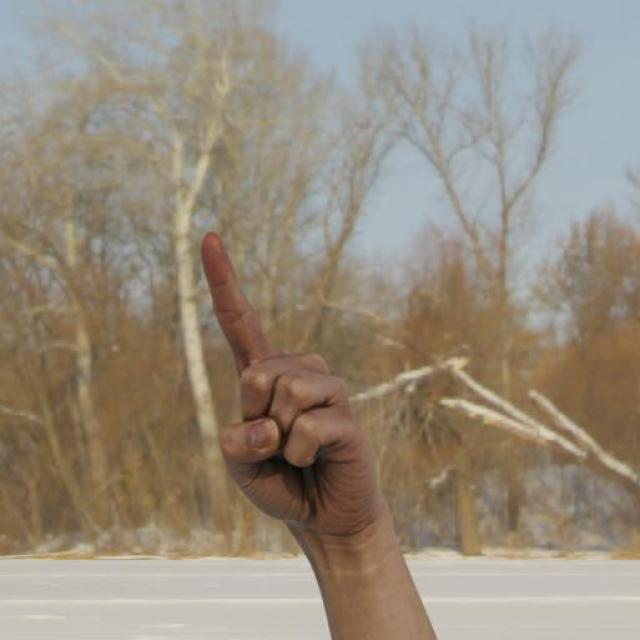Z: (198, 227, 388, 542)
